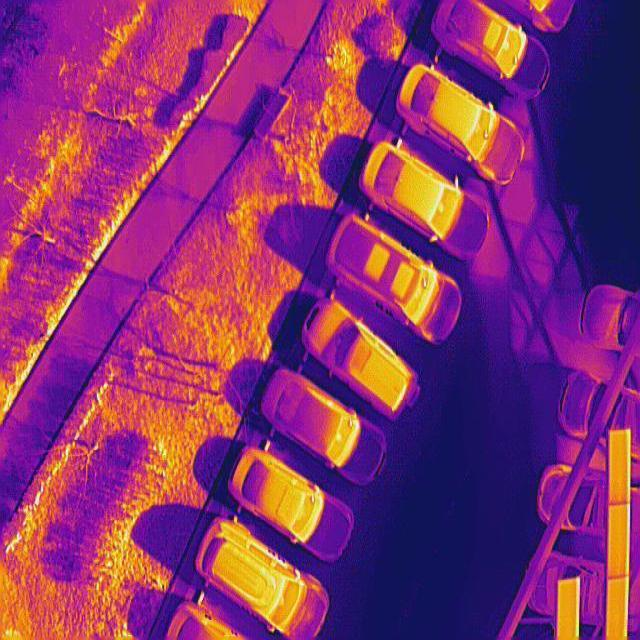No-Anomaly: (608, 428, 633, 503), (608, 503, 631, 578), (607, 577, 631, 640)
